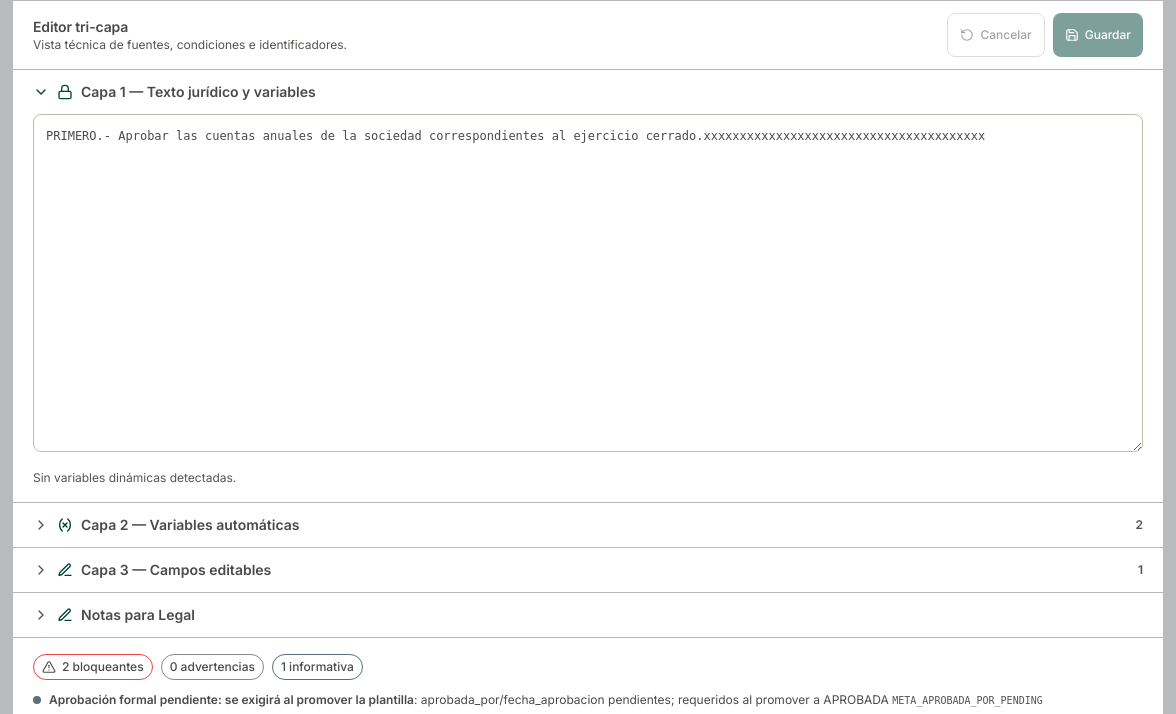
TriCapaEditor › marca cada identificador duplicado de Capa 2 como inválido y lo describe
Click the button "Capa 2 — Variables automáticas 2".
click(190, 524)  # box [13, 503, 1163, 547]
(page scrolled)
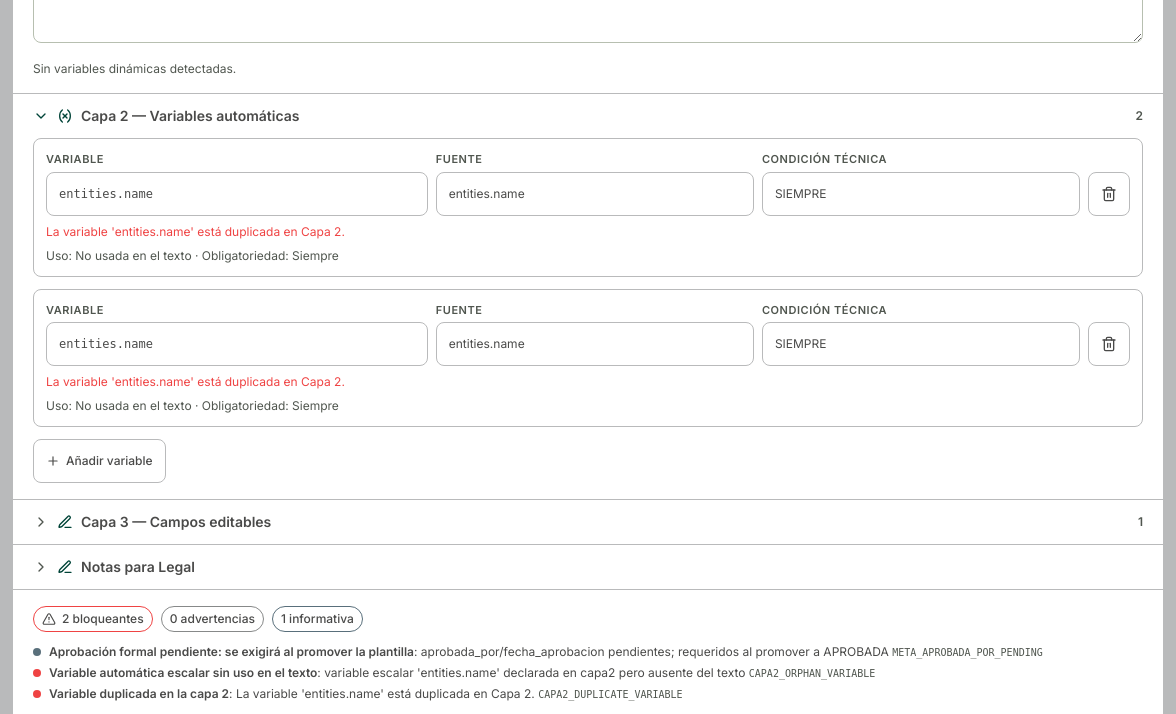
Expected: the number of fields named "Variable capa 2" is 2, [46, 172, 428, 216]; [46, 322, 428, 366]
Expected: the text with id "capa2-validation-0" shows "está duplicada en Capa 2", [46, 224, 345, 238]
Expected: the text with id "capa2-validation-1" shows "está duplicada en Capa 2", [46, 374, 345, 389]
